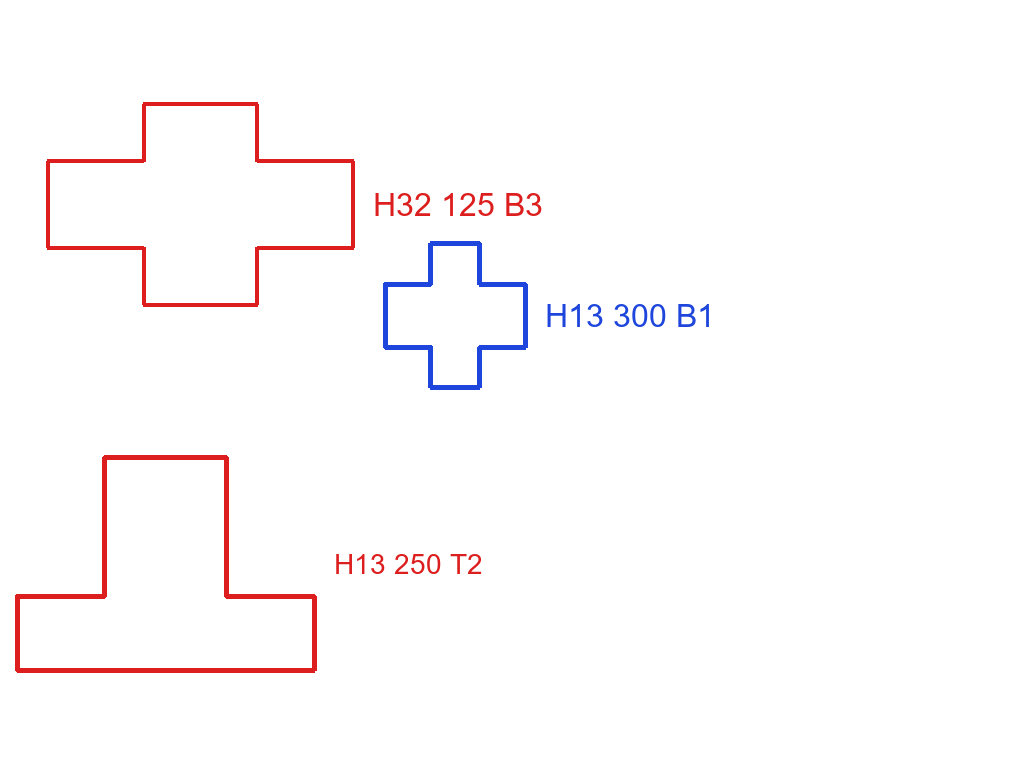shape: (13, 453, 319, 675), (43, 101, 357, 309), (381, 239, 530, 392)
text: (371, 191, 545, 218), (543, 302, 717, 329), (332, 552, 485, 576)
